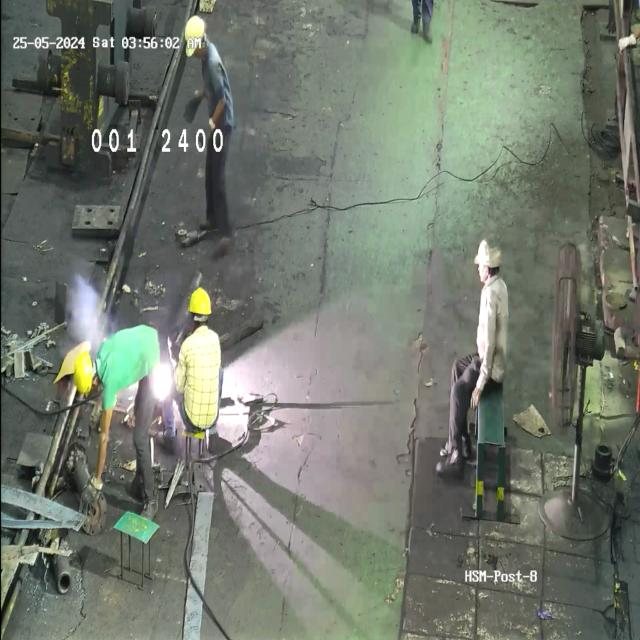person: (436, 237, 512, 500)
safety-glove: (74, 465, 107, 531), (194, 114, 219, 153), (178, 88, 204, 125)
safety-helmet: (469, 223, 504, 291), (71, 343, 107, 402), (188, 278, 219, 333), (182, 7, 210, 63)
safety-shoes: (208, 227, 245, 264), (442, 436, 476, 474), (434, 452, 468, 490), (204, 420, 234, 461), (119, 465, 152, 499), (153, 419, 180, 460), (137, 487, 162, 529), (196, 205, 220, 238), (421, 19, 436, 48), (409, 9, 423, 37)
